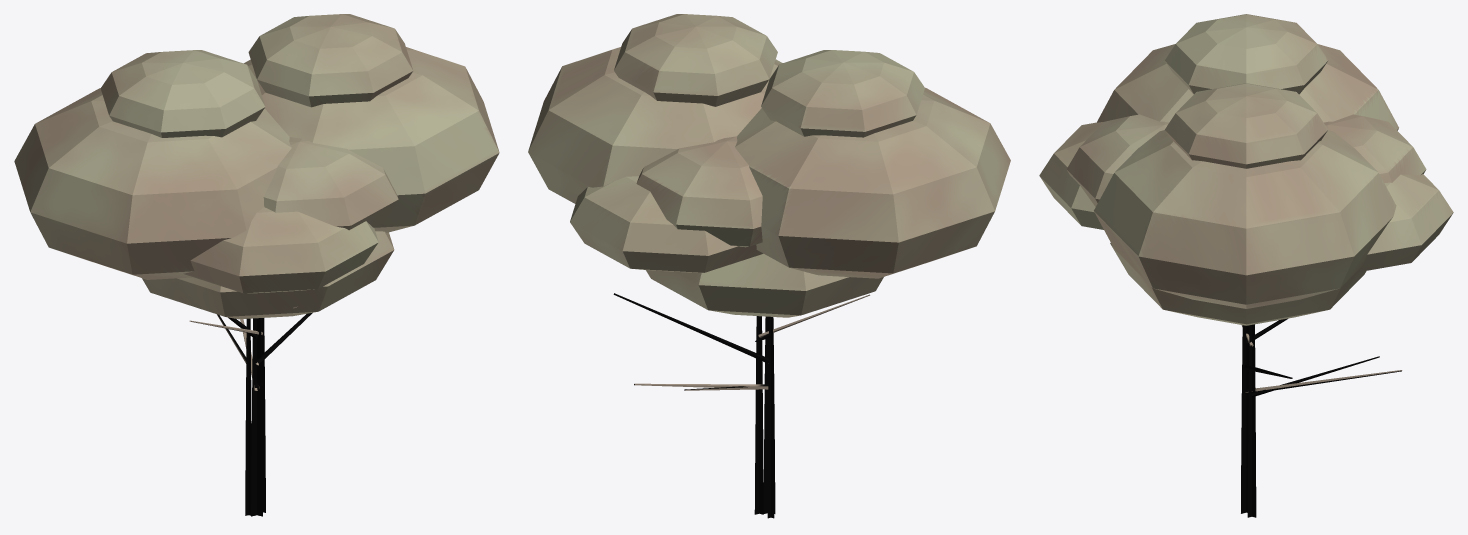
File: redbud.glb
3 views of the same model, side by side, from view 1: azimuth 30°, elevation 25°; view 2: azimuth 150°, elevation 25°; view 3: azimuth 270°, elevation 25° (orthographic). The views are drawn at different scales.
Parts seen in each view (by area): view 1: RedbudCrown, RedbudTrunk; view 2: RedbudCrown, RedbudTrunk; view 3: RedbudCrown, RedbudTrunk.
Boxes of the visible parts, box(x1,y1,x2,y2) form: RedbudCrown: box(14, 14, 499, 319); RedbudTrunk: box(189, 306, 312, 516); RedbudCrown: box(528, 14, 1010, 317); RedbudTrunk: box(613, 293, 869, 518); RedbudCrown: box(1039, 14, 1453, 325); RedbudTrunk: box(1241, 318, 1402, 517).
Bounding box in the file's own units: 9.2 × 9.18 × 7.6.
2 materials, 2 textured.
